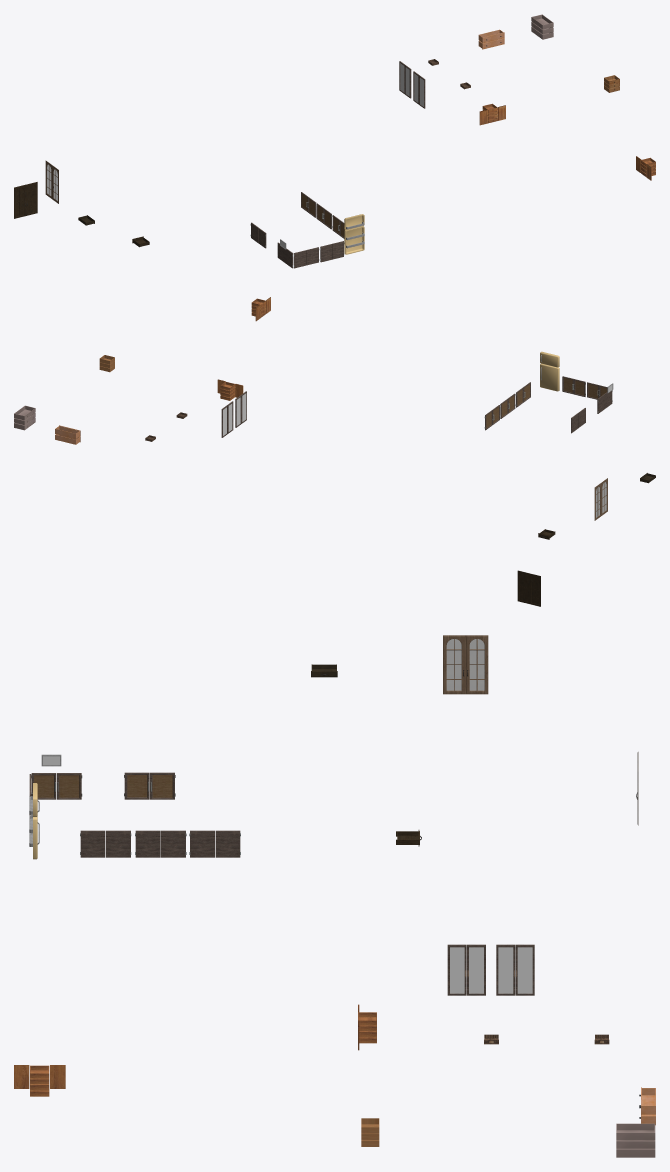
File: cabinets-and-drawers.glb
3 renders of one model, top to bottom at view 1: azimuth 30°, elevation 25°; view 2: azimuth 150°, elevation 25°; view 3: azimuth 270°, elevation 25°, orthographic. The views are drawn at different scales.
Parts seen in each view (by area): view 1: Cube.054-col, wardrobe_mp_1_3_door_2.001, wardrobe_mp_1_3_door_1.001; view 2: Cube.054-col; view 3: display_cabinet_mp_2_4_door_2.001, display_cabinet_mp_2_4_door_1.001, Cube.015-col, Cube.016-col, Cube.193-col, Cube.194-col.
Part boxes in pixels (bbox=[...]): Cube.054-col: bbox=[344, 226, 364, 254]; wardrobe_mp_1_3_door_2.001: bbox=[26, 182, 37, 215]; wardrobe_mp_1_3_door_1.001: bbox=[14, 184, 25, 218]; Cube.054-col: bbox=[540, 363, 559, 391]; display_cabinet_mp_2_4_door_2.001: bbox=[465, 635, 488, 694]; display_cabinet_mp_2_4_door_1.001: bbox=[443, 635, 465, 694]; Cube.015-col: bbox=[515, 944, 534, 995]; Cube.016-col: bbox=[496, 944, 515, 995]; Cube.193-col: bbox=[447, 944, 466, 995]; Cube.194-col: bbox=[467, 944, 485, 995].
Size of the model in its own units: 31.72 by 5.07 by 18.36.
Materials: 33 (30 with a texture image).
